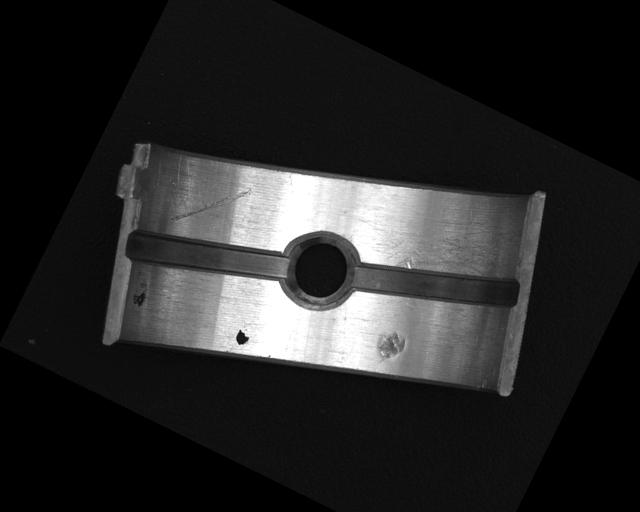blot: (128, 278, 153, 309), (231, 322, 254, 348)
bruise: (366, 325, 409, 371)
gap: (346, 213, 524, 355), (119, 189, 294, 324)
hole: (271, 221, 367, 320)
nick: (170, 161, 254, 246)
scratch: (369, 180, 524, 316)
